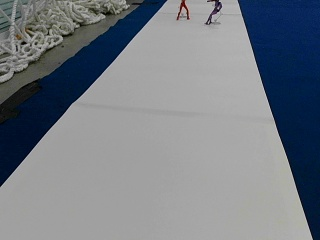pedestrian: (204, 0, 221, 24), (175, 0, 190, 20)
